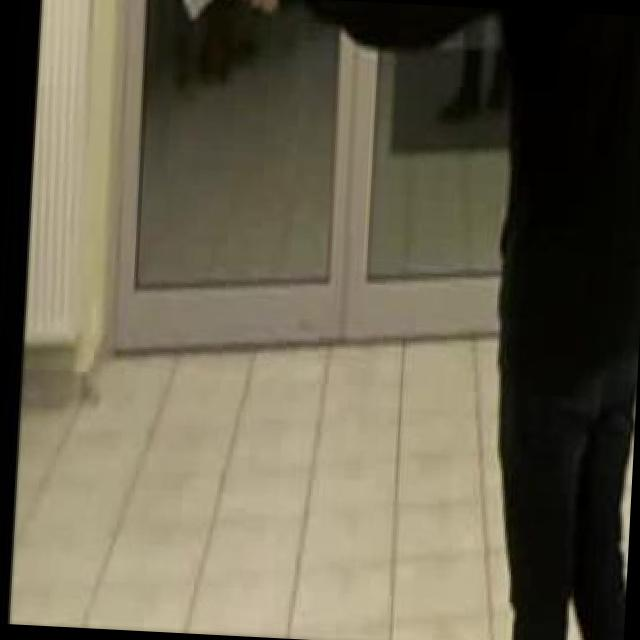Guns: (154, 0, 275, 51)
